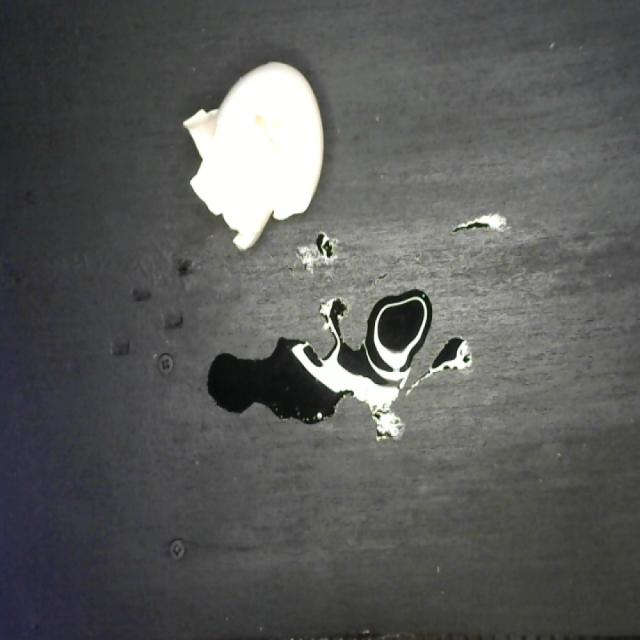biodegradable: (181, 58, 325, 258)
